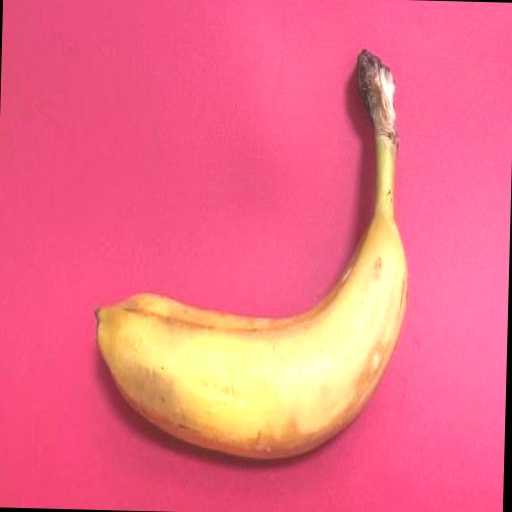fruit: (96, 52, 407, 458)
